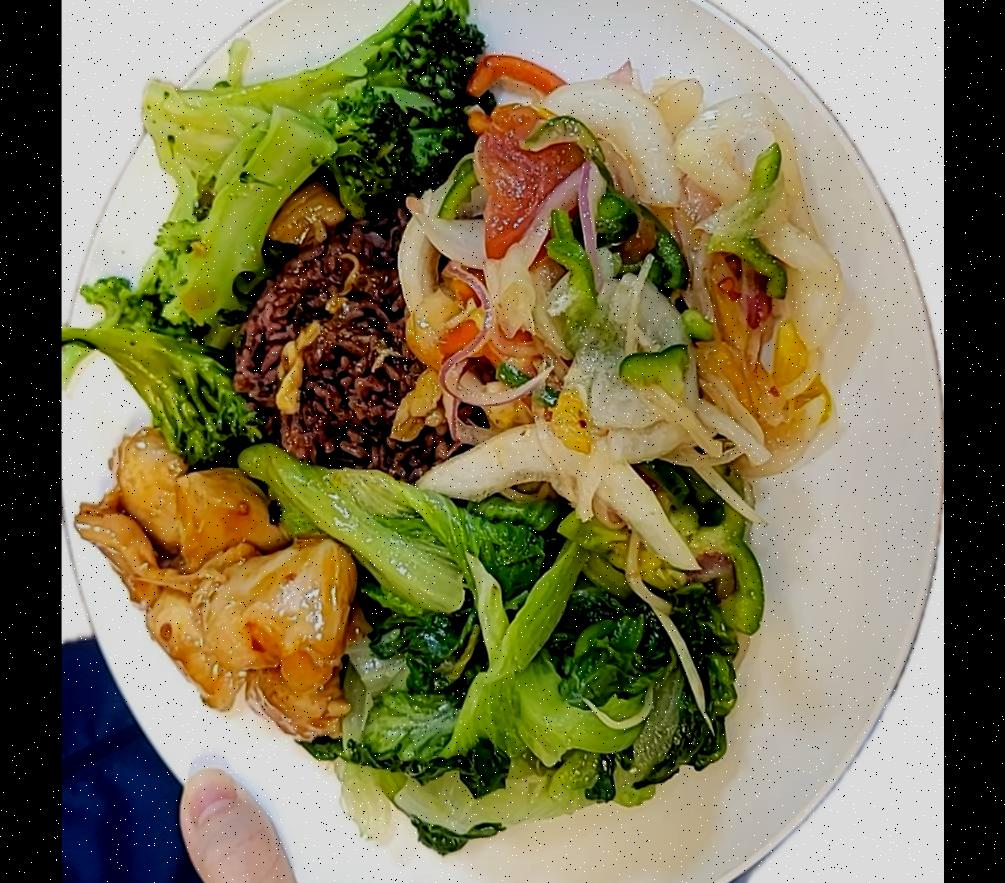big fried chicken leg: (65, 0, 944, 883)
braised fish: (233, 224, 454, 470)
braised fish fillet: (390, 64, 846, 568), (252, 452, 762, 857), (66, 2, 478, 465)
braised pork: (77, 425, 360, 738)
